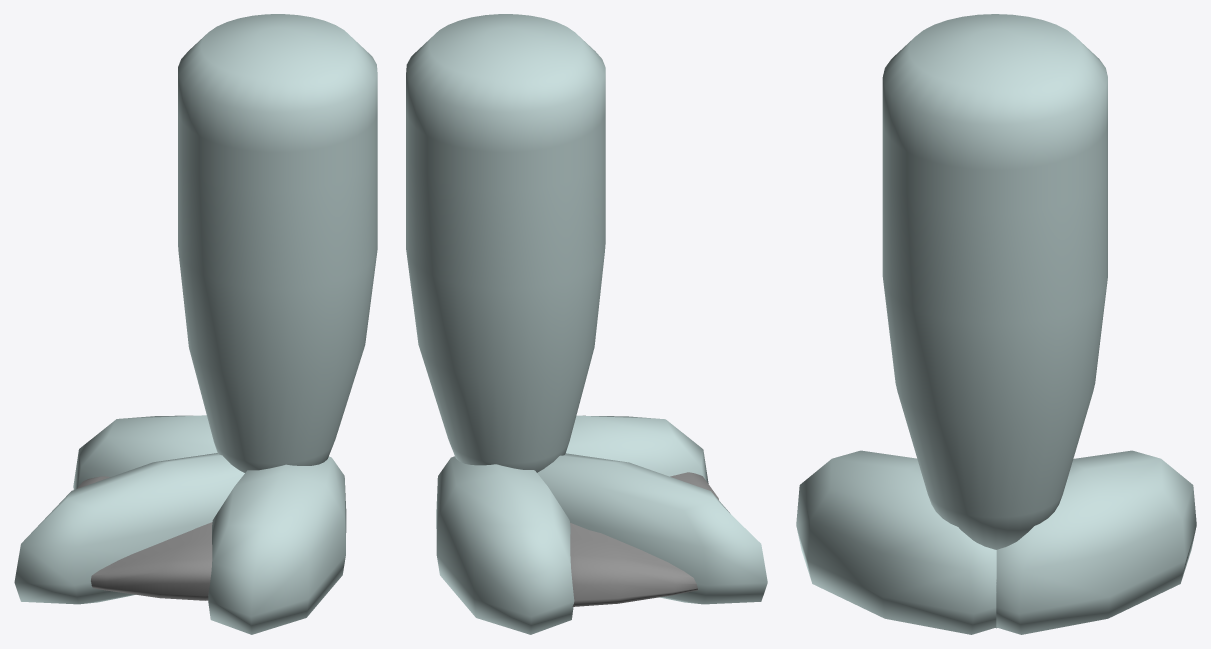
Rendered from Webbed.fbx.
3 renders of one model, left to right at view 1: azimuth 30°, elevation 25°; view 2: azimuth 150°, elevation 25°; view 3: azimuth 270°, elevation 25°, orthographic. The views are drawn at different scales.
Visible parts, largest first — view 1: Cylinder.003; view 2: Cylinder.003; view 3: Cylinder.003.
Part boxes in pixels (x1,y1,x2,y2): Cylinder.003: (14,14,377,634); Cylinder.003: (406,14,767,634); Cylinder.003: (796,14,1196,634).
Size of the model in its own units: 360 by 507 by 318.
